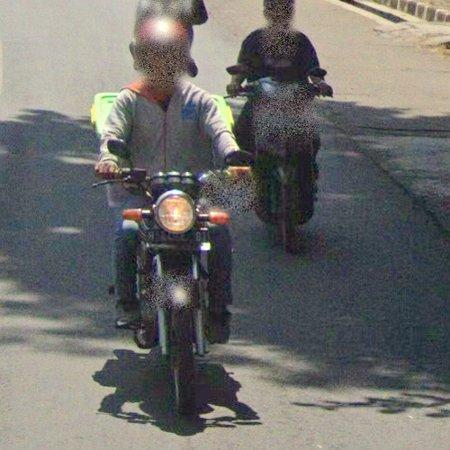motorcycles: (111, 169, 230, 414)
